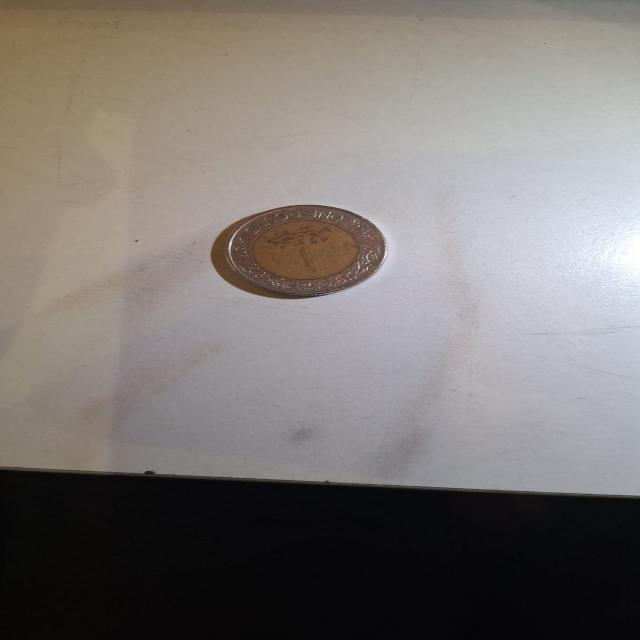One Pound: (192, 183, 410, 315)
